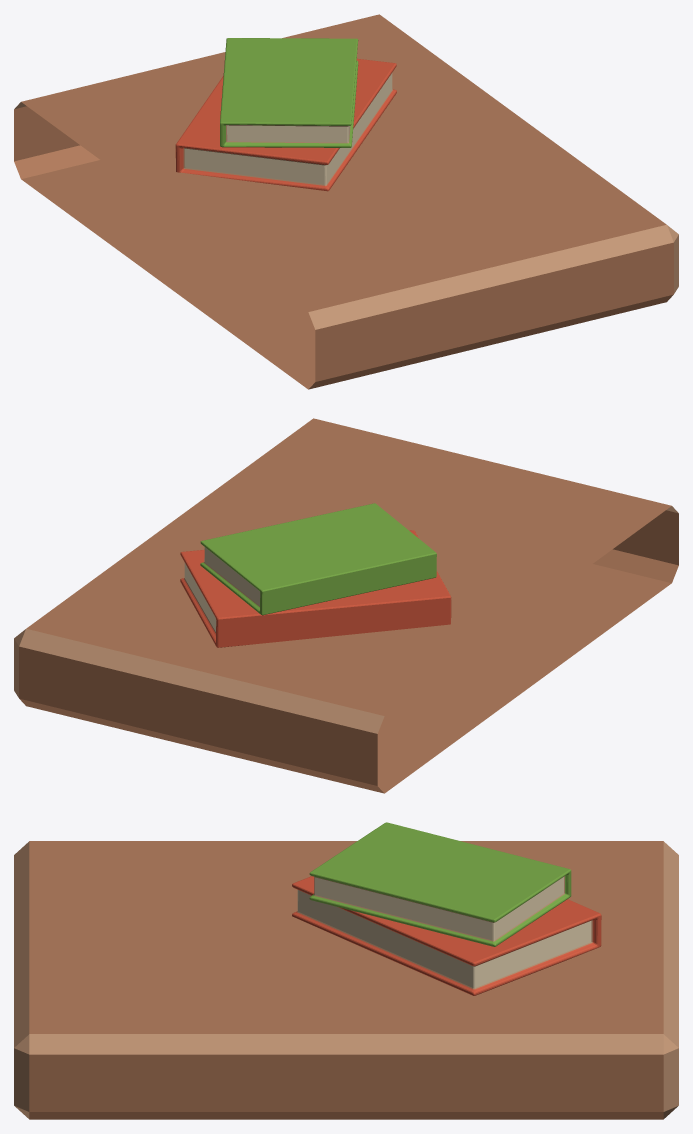
Rendered from Table.fbx.
3 views of the same model, one above another, from view 1: azimuth 30°, elevation 25°; view 2: azimuth 150°, elevation 25°; view 3: azimuth 270°, elevation 25° (orthographic). The views are drawn at different scales.
Visible parts, largest first — view 1: Table; view 2: Table; view 3: Table.
Part boxes in pixels (x1=…): Table: x1=14, y1=14, x2=678, y2=389; Table: x1=14, y1=418, x2=678, y2=793; Table: x1=14, y1=822, x2=678, y2=1119.
Size of the model in its own units: 47.62 by 16.36 by 67.07.
